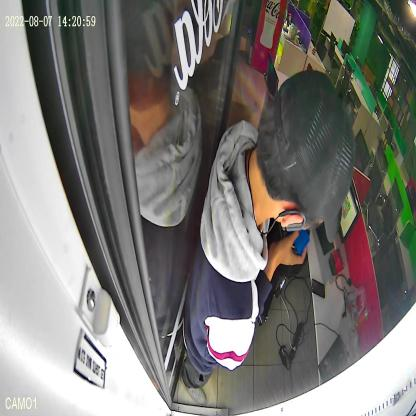blue: (282, 226, 310, 256)
